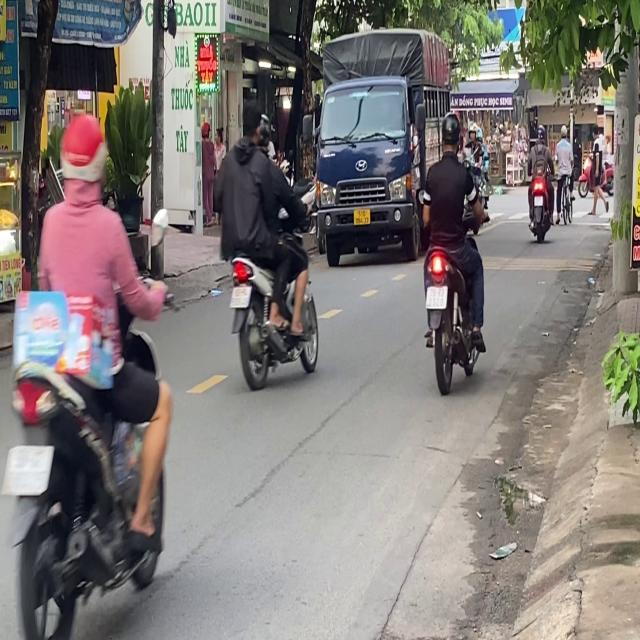helmet: (56, 112, 108, 201), (438, 112, 462, 156)
licenseplate: (0, 110, 179, 638), (215, 95, 321, 389), (417, 109, 490, 392)
motorcyclist: (238, 99, 264, 149)
nohelmet: (4, 445, 53, 493), (426, 286, 447, 308), (230, 286, 250, 306)
